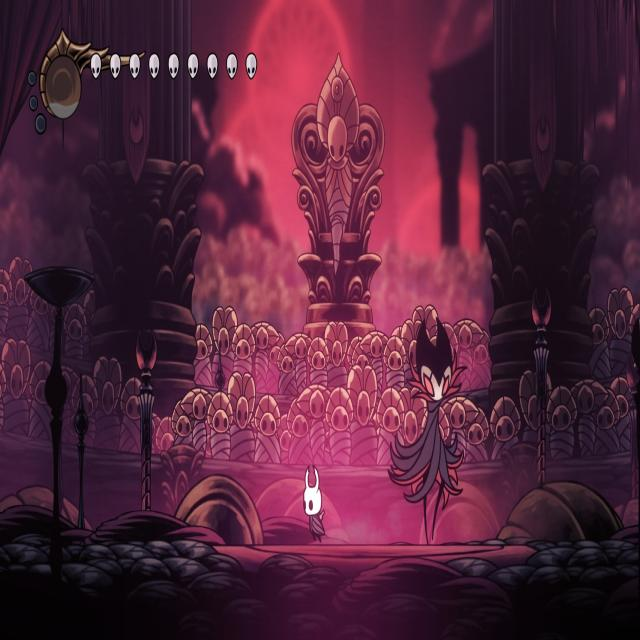Grimm: (386, 312, 469, 550)
Player: (303, 463, 328, 547)
